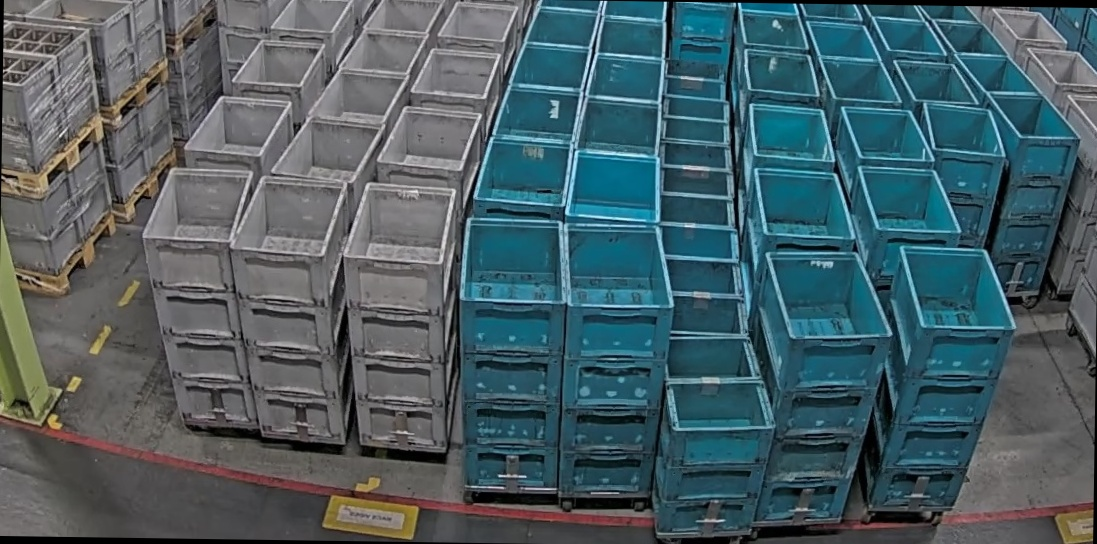4G: (225, 174, 358, 441), (137, 166, 263, 429), (339, 181, 461, 450)
B4: (860, 244, 1021, 509), (749, 249, 896, 525), (559, 222, 678, 496), (455, 216, 568, 491), (916, 101, 1009, 251)
B8: (651, 333, 778, 537)
